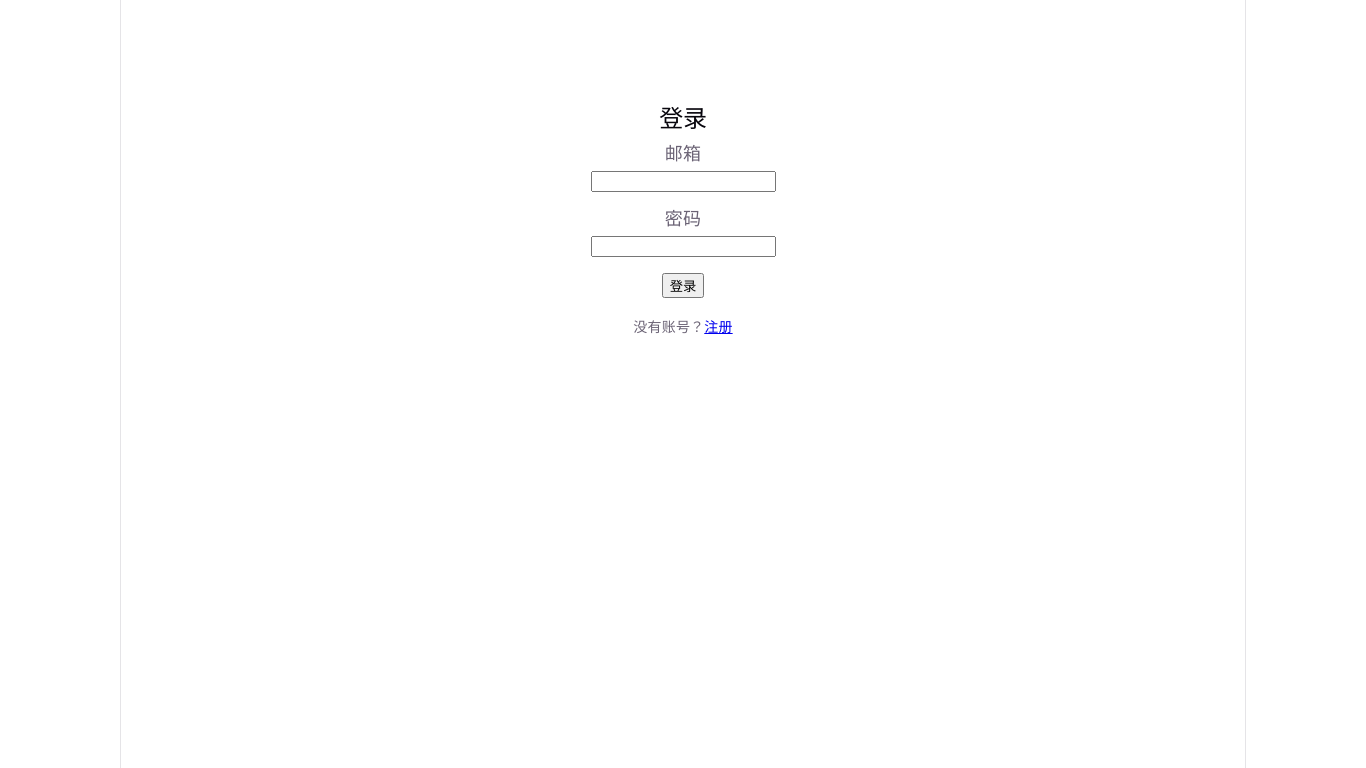
Test: API 失败时显示错误信息
In the field labelled "邮箱": (683, 182) x1=590 y1=171 x2=776 y2=192, type "bad@b.com"
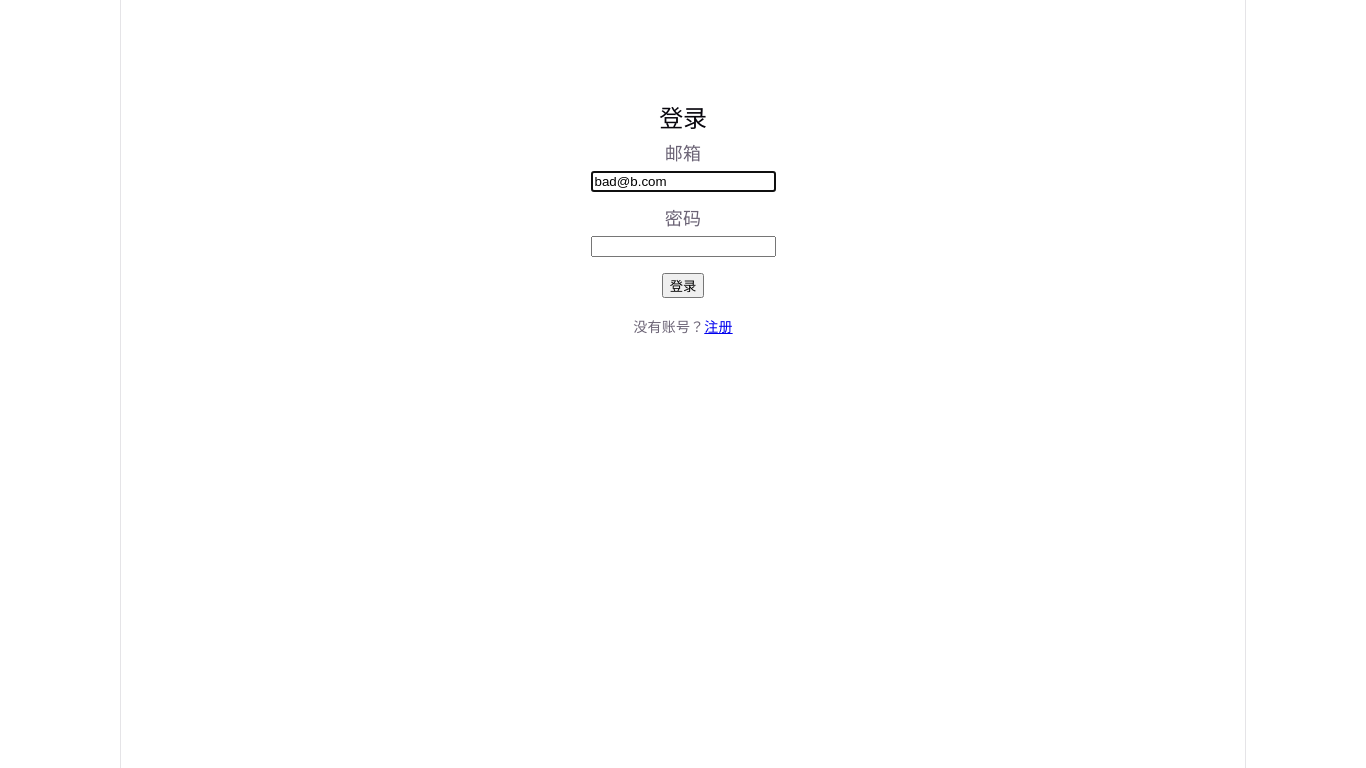
In the password field labelled "密码": (683, 246) x1=590 y1=236 x2=776 y2=257, type "wrong"
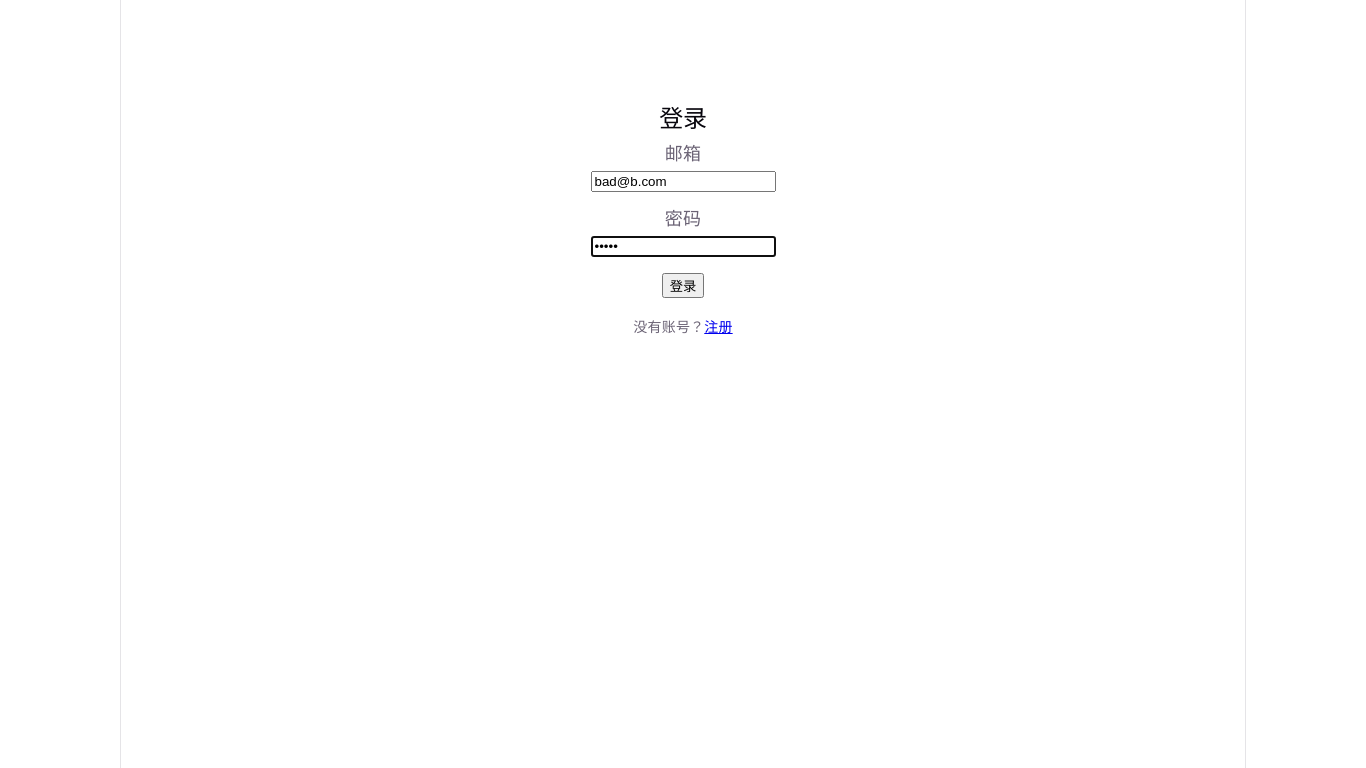
Click the button "登录": click(683, 285) x1=662 y1=273 x2=704 y2=298
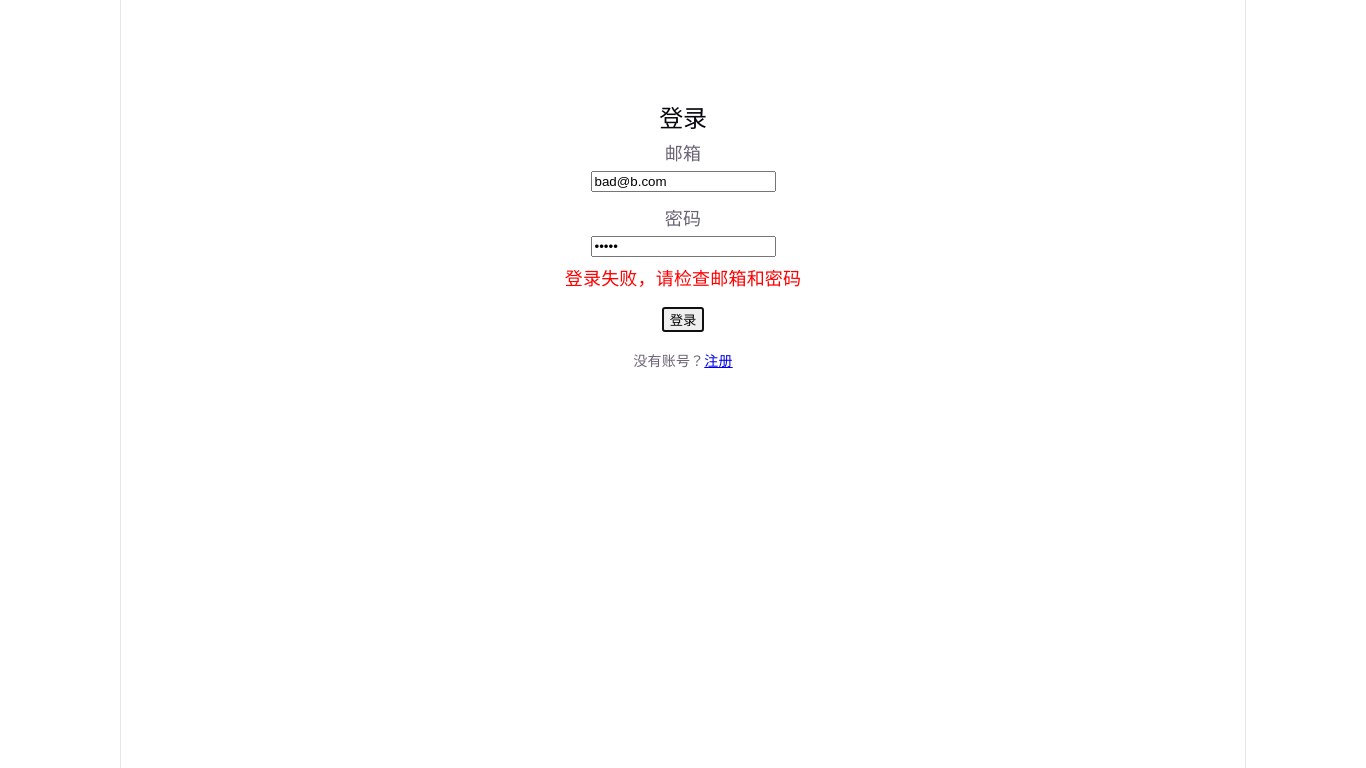
expect the message "登录失败，请检查邮箱和密码" is shown: met, box x1=565 y1=265 x2=801 y2=291
